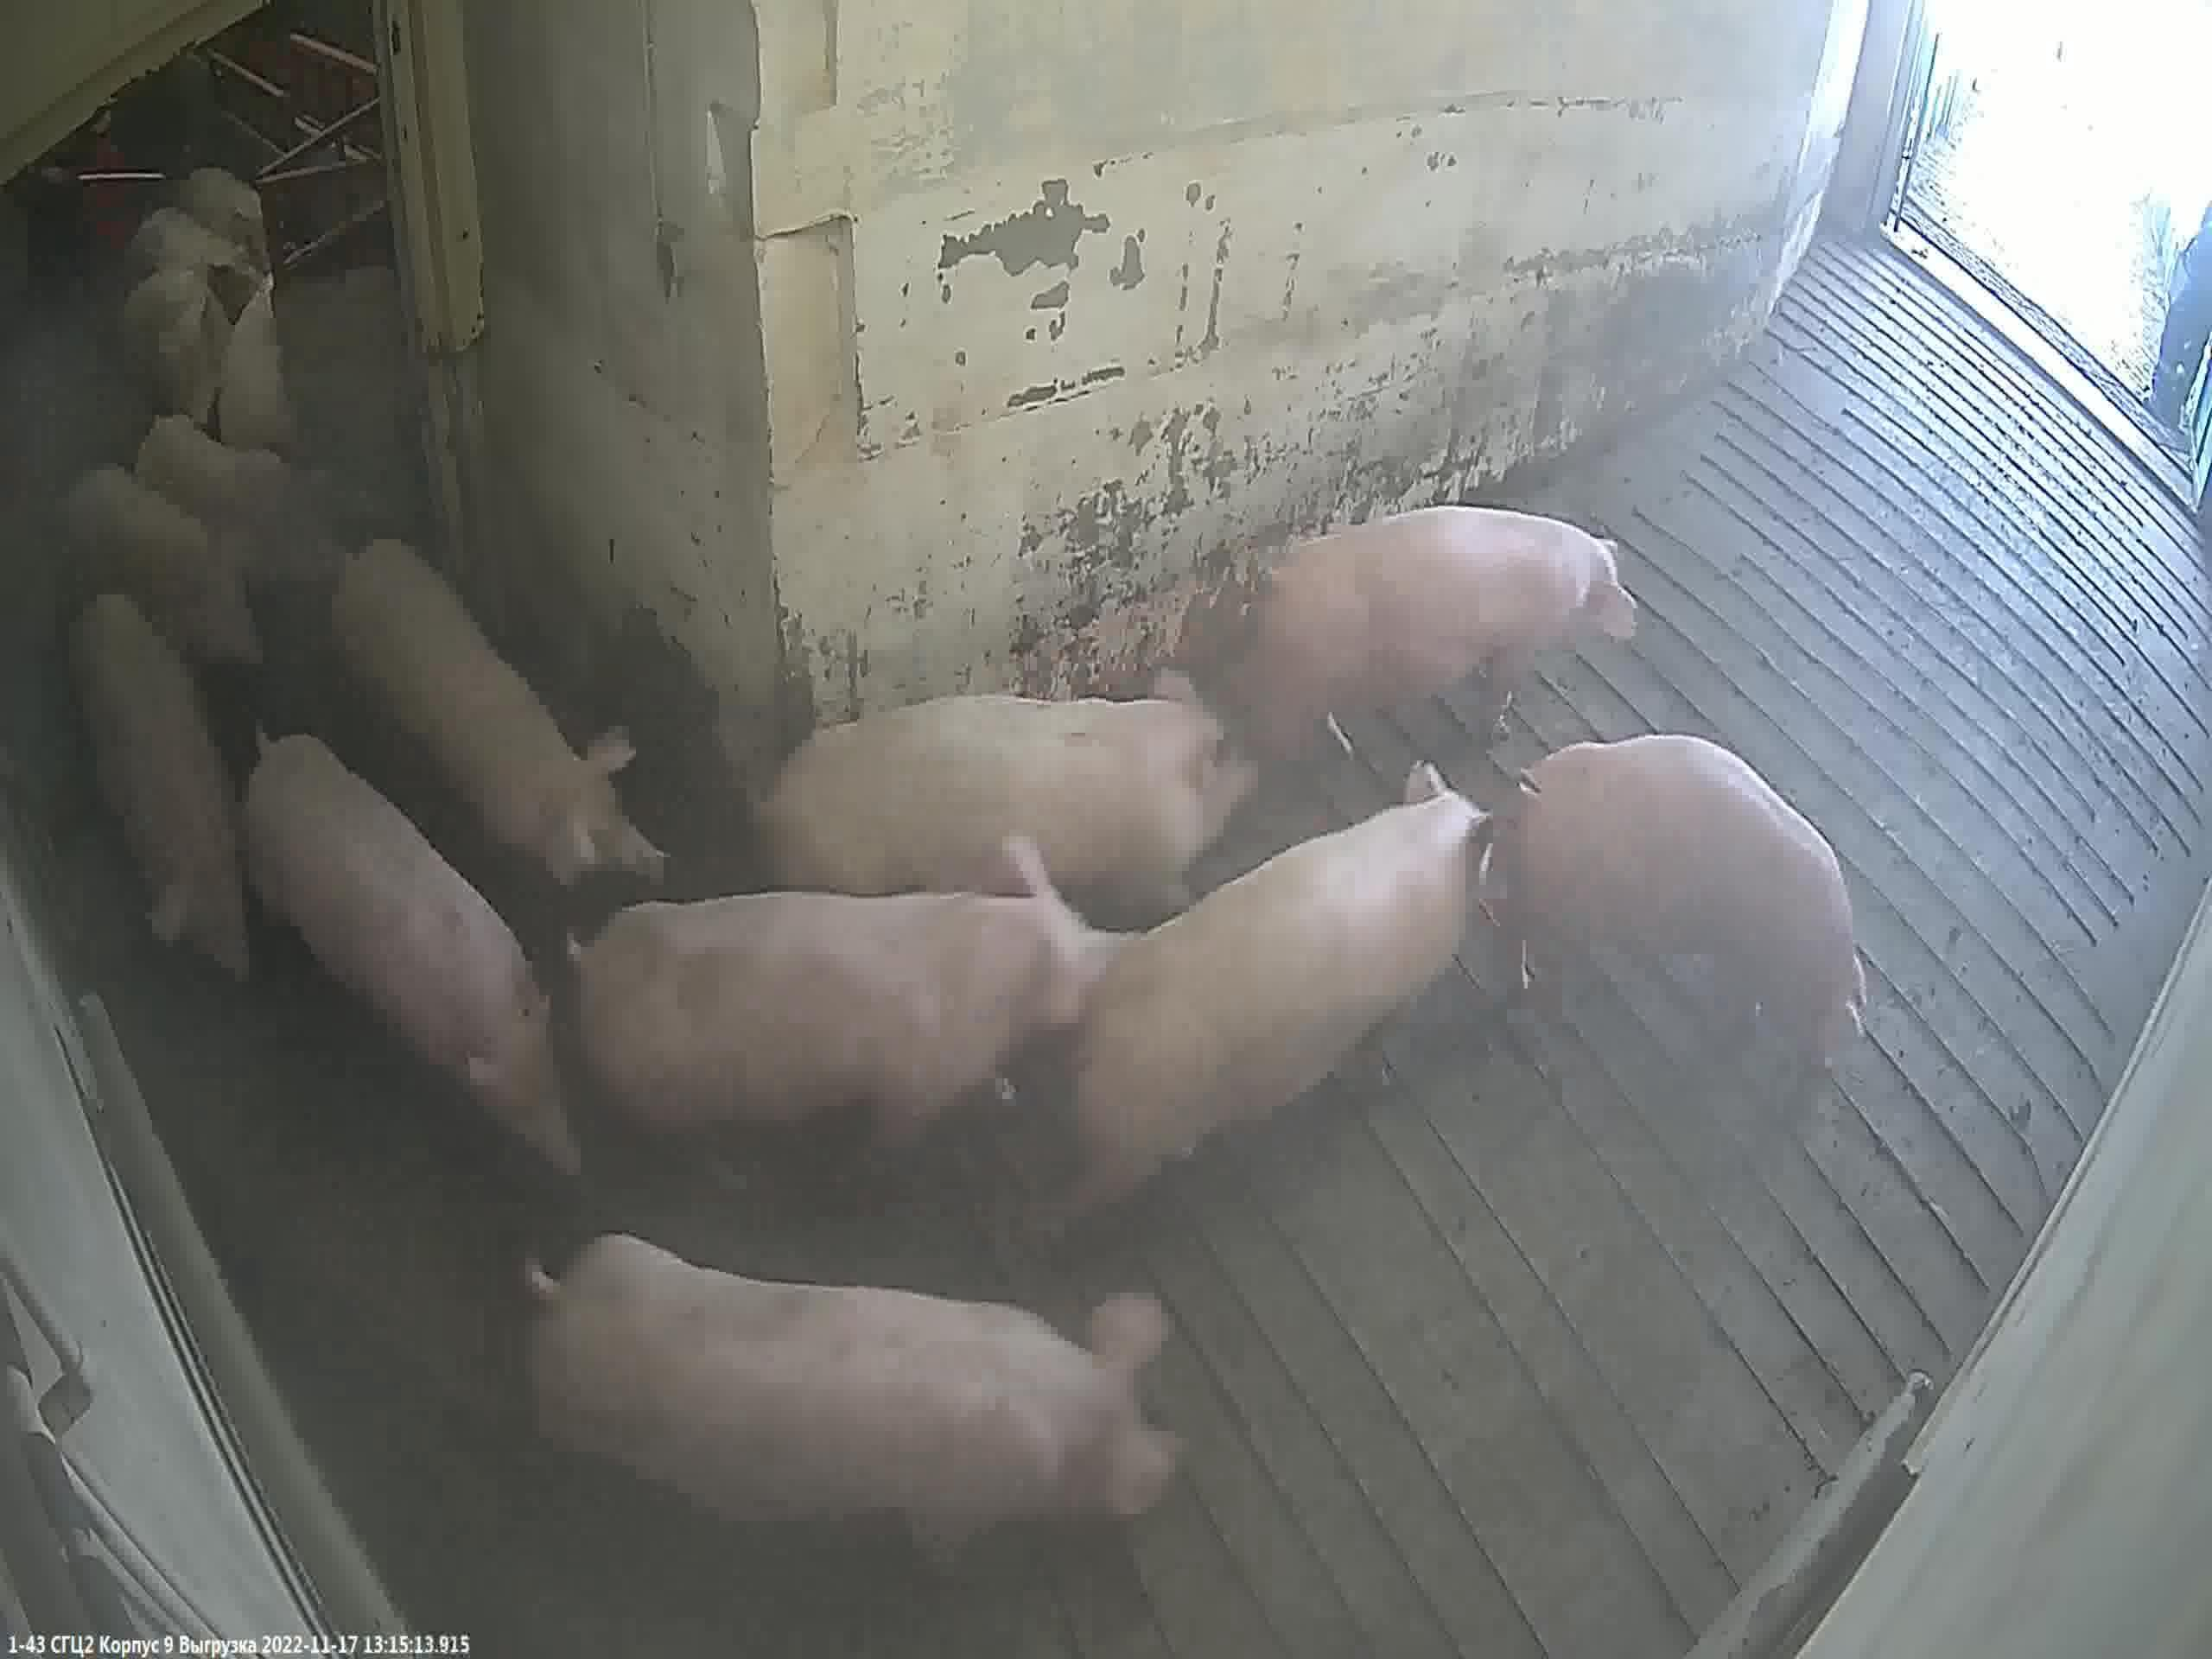Pigs: (523, 1234, 1184, 1589), (1047, 789, 1498, 1234), (564, 884, 1136, 1173), (240, 737, 582, 1188), (327, 542, 667, 939), (1521, 735, 1855, 1115), (758, 695, 1258, 945), (1217, 509, 1635, 786), (70, 594, 258, 983), (66, 465, 261, 692)
